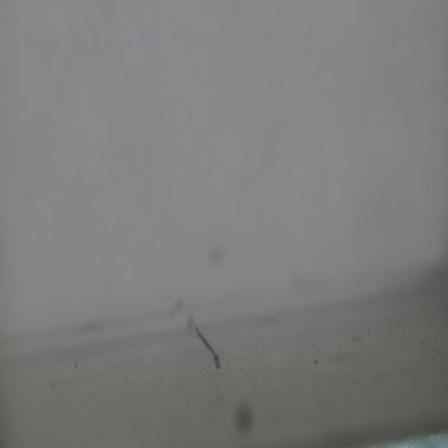Jentik-Nyamuk: (184, 319, 225, 373)
